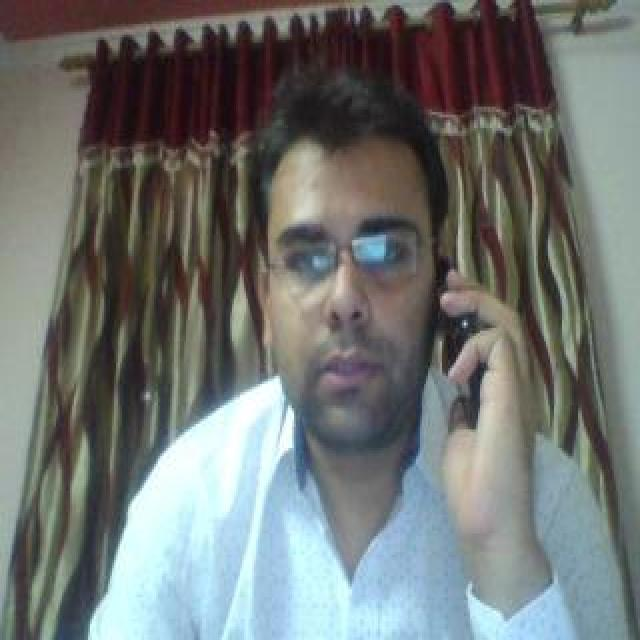phone: (432, 256, 490, 414)
